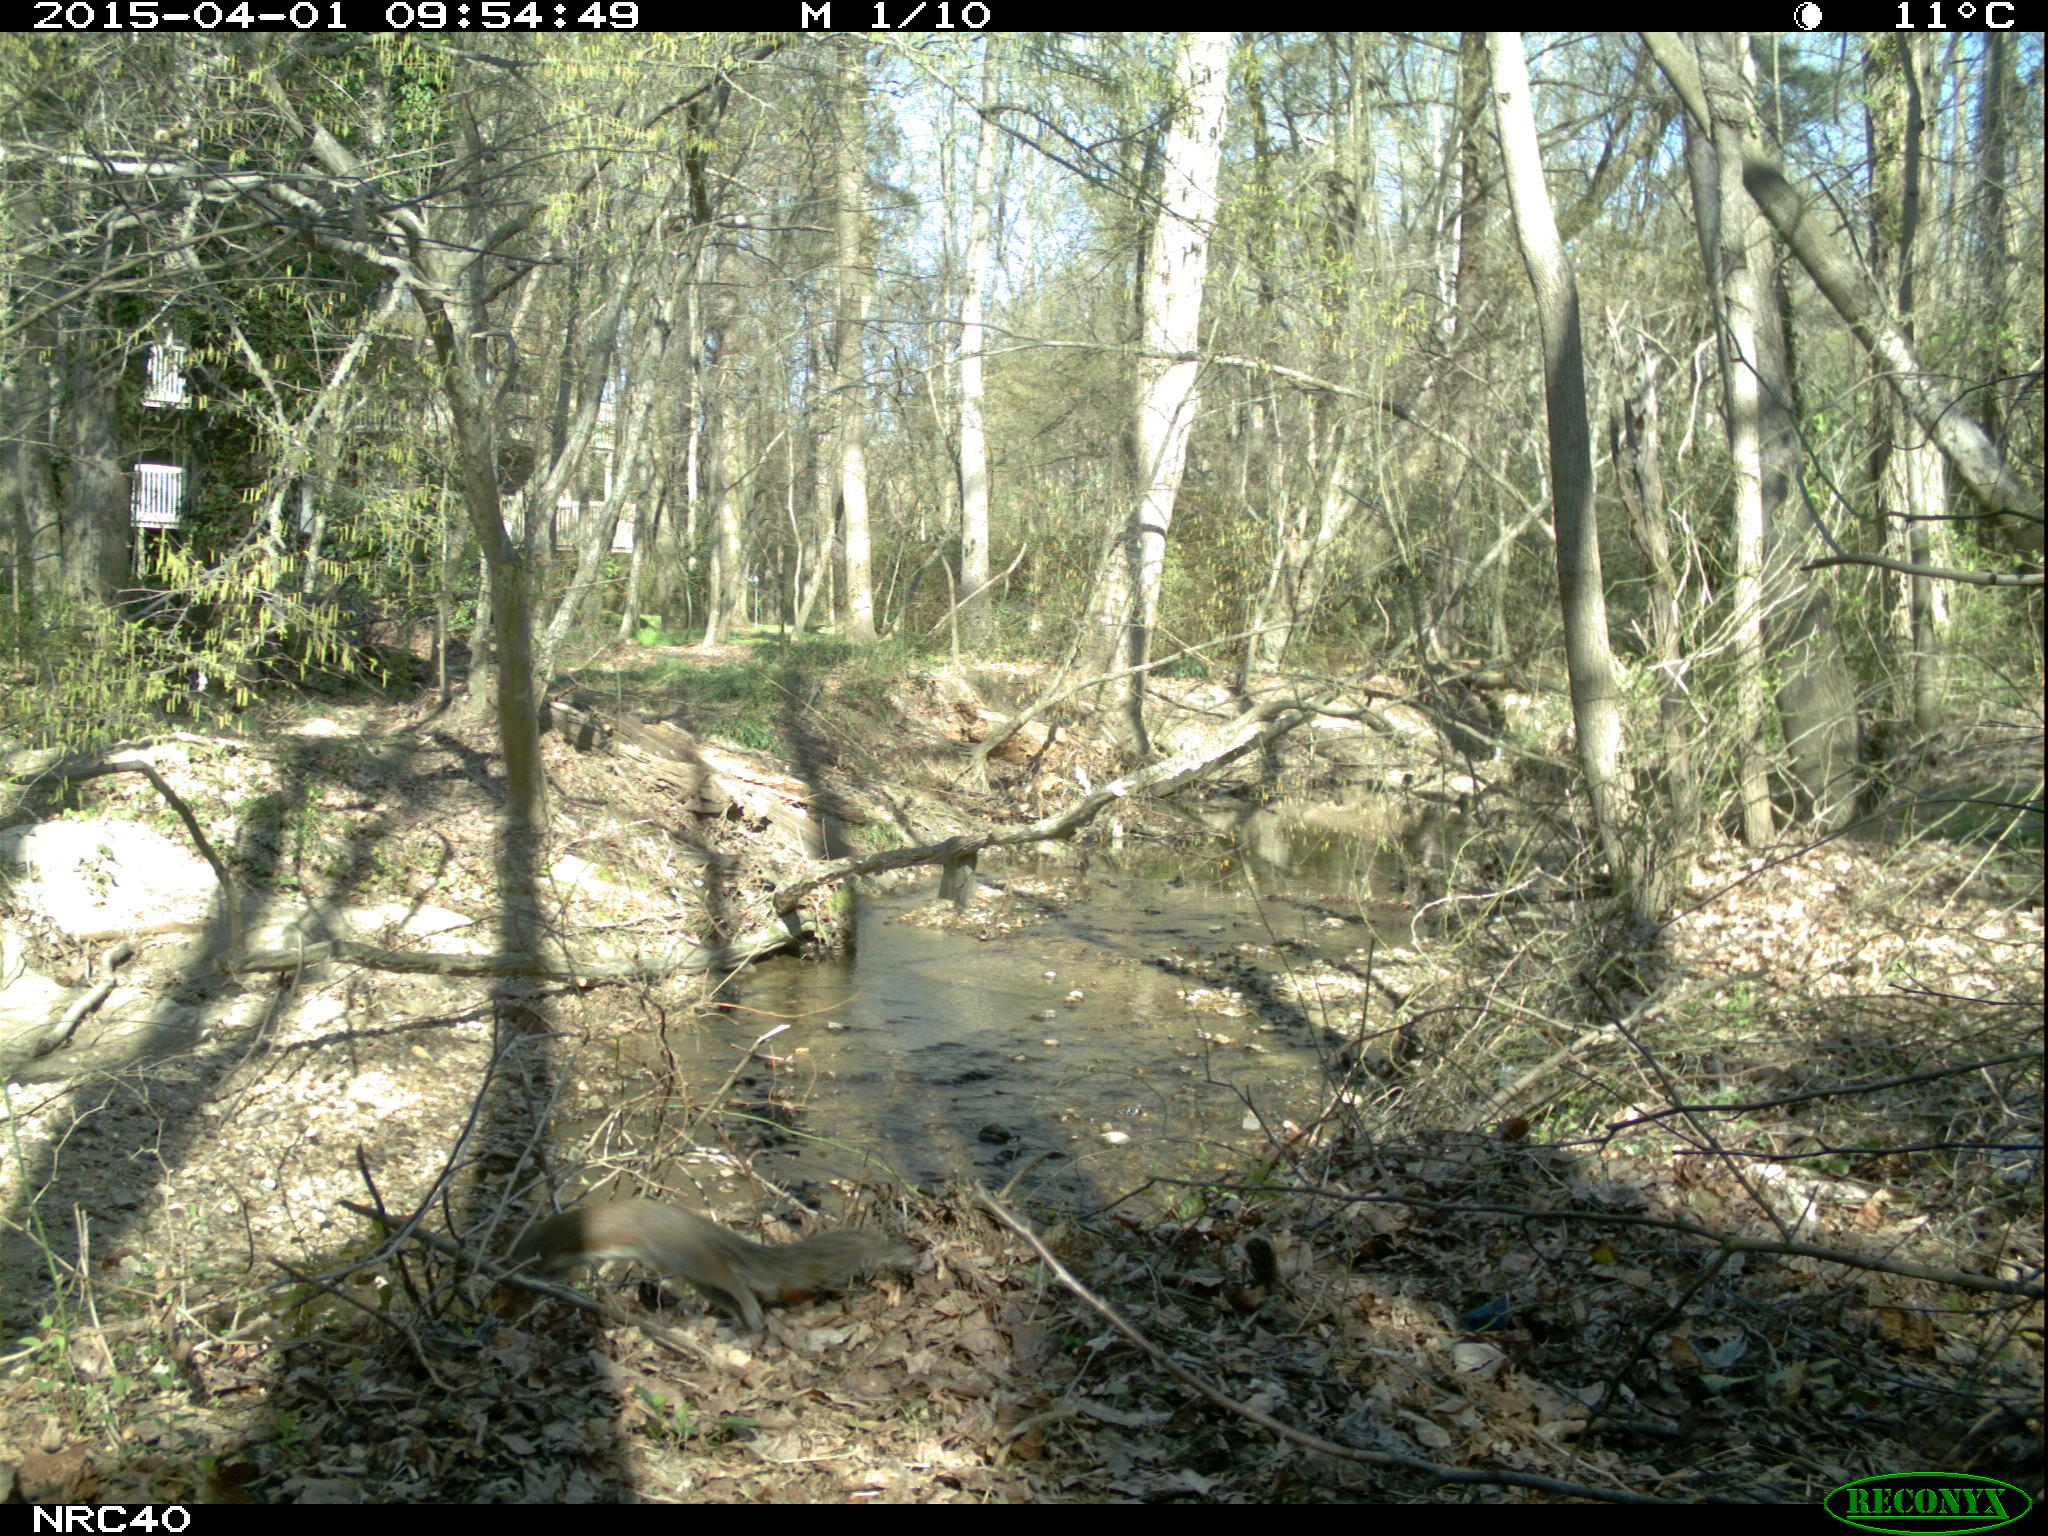Animal: (524, 1200, 914, 1333)
